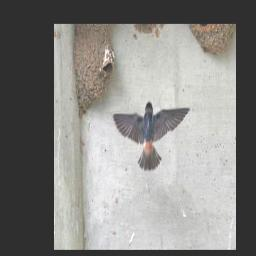Swallow: (112, 99, 193, 171)
